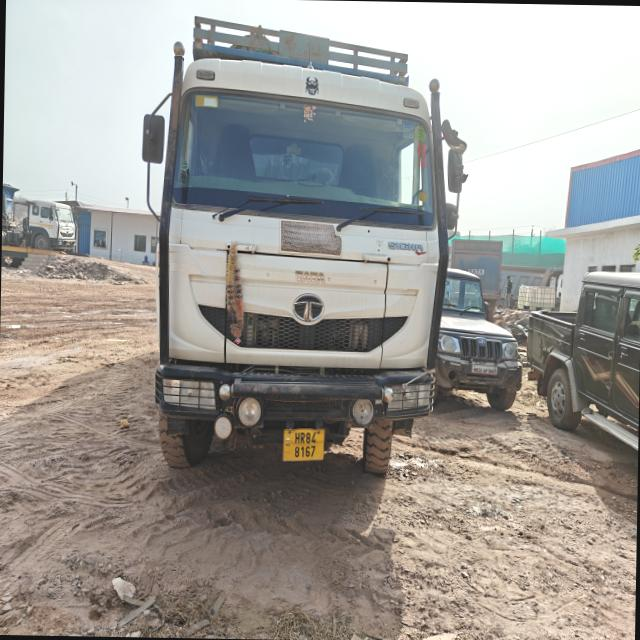license_plate: (284, 429, 324, 461), (473, 364, 497, 375)
